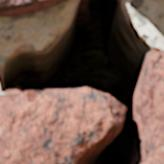brick: (0, 0, 66, 17)
broken_brick: (0, 89, 114, 163), (139, 49, 163, 163)
crack: (0, 0, 162, 163)
